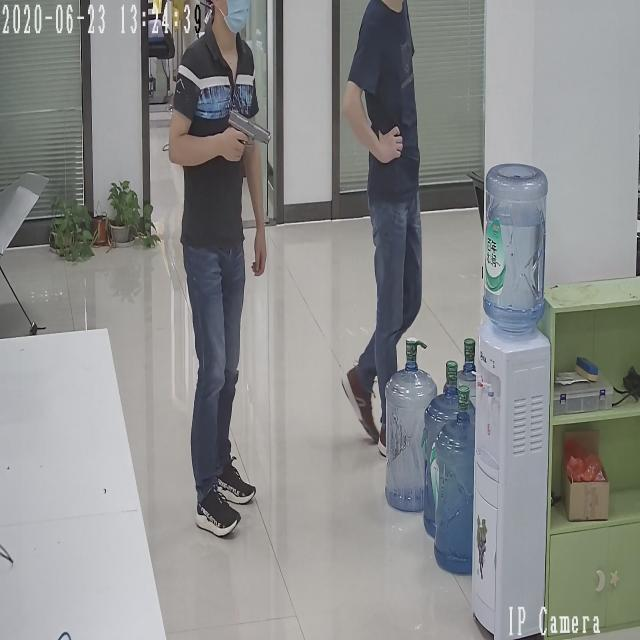gun-knife-thesis - v11 Yolov5 augmented: (224, 106, 274, 164)
